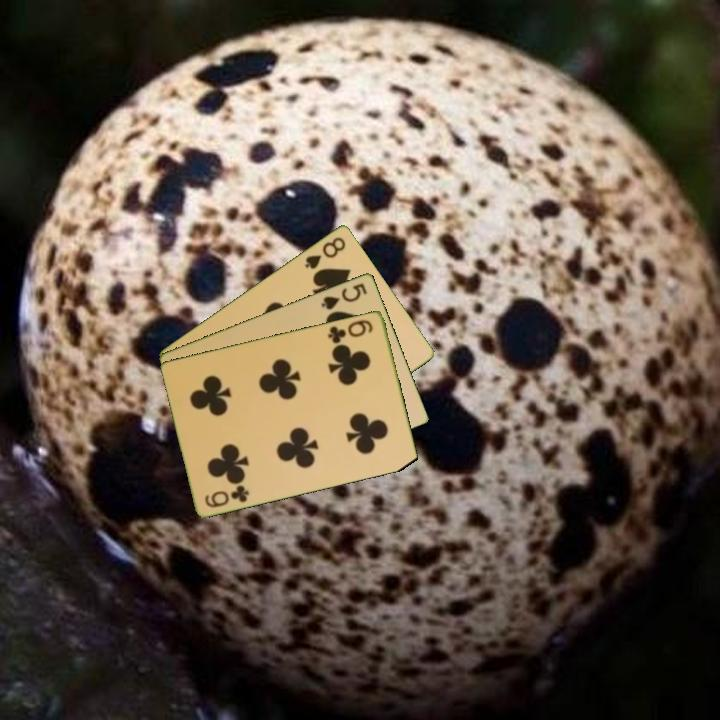5s: (318, 279, 370, 312)
6c: (324, 316, 376, 346), (201, 481, 253, 510)
8s: (301, 233, 349, 272)
